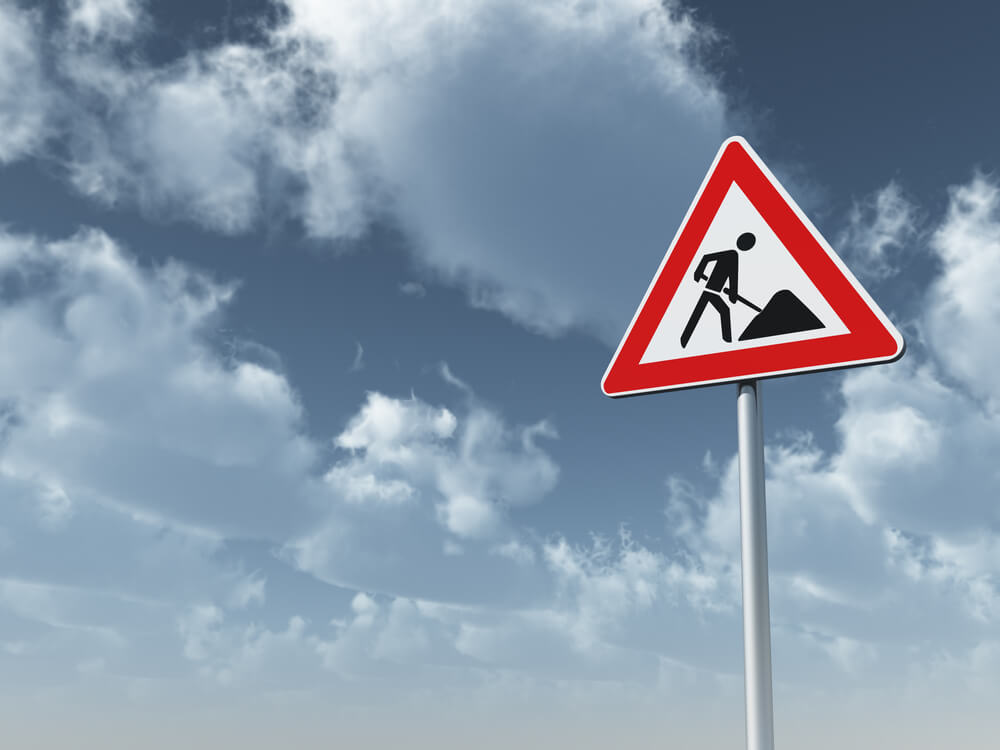caution: (597, 134, 907, 395)
